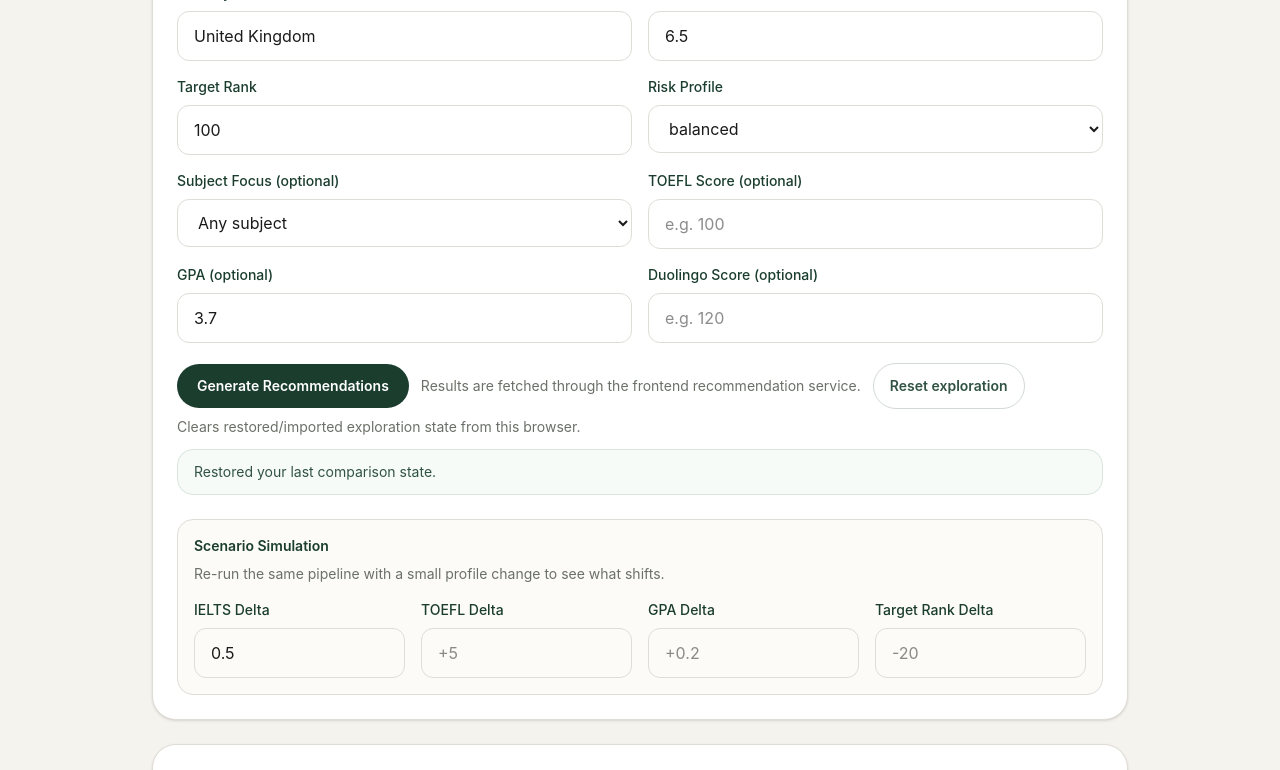
RecommendationPageContent persistence › clears persisted exploration state when reset is clicked
The image size is (1280, 770).
(page scrolled)
Click the button "Reset exploration".
click(949, 386)  # box [873,363,1024,409]
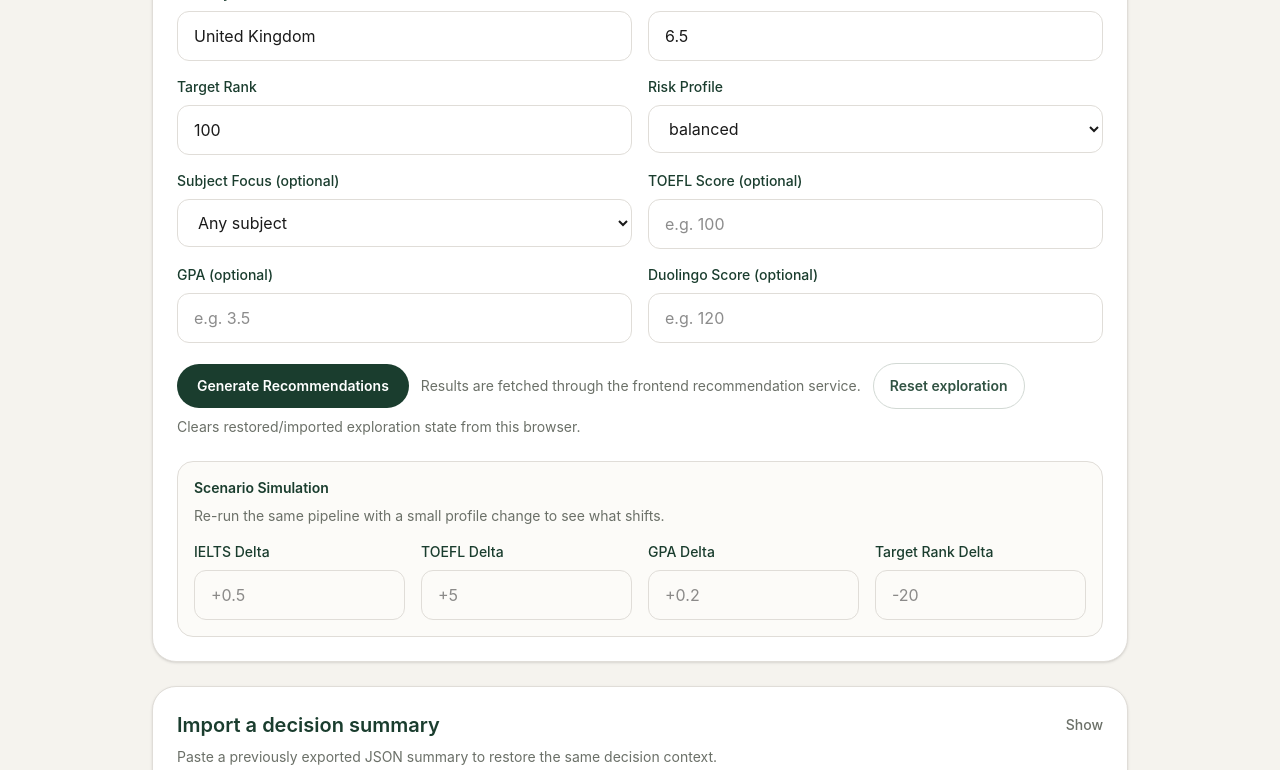
Expected: the text with test id "restored-state-cue" is gone
Expected: the number field labelled "IELTS Delta" is not empty, [194,570,405,620]
